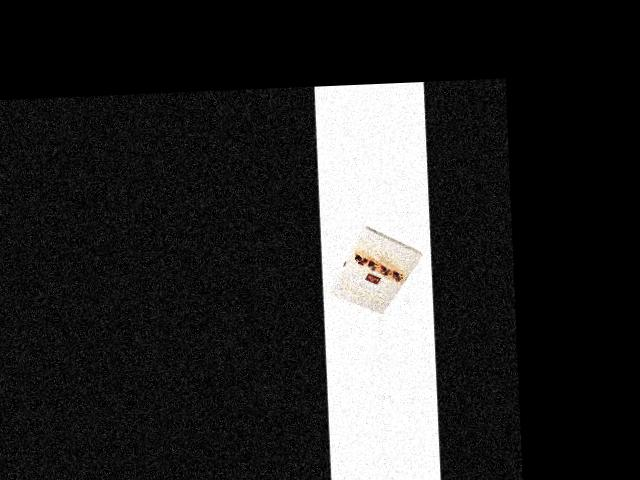chocolate: (327, 221, 432, 314)
